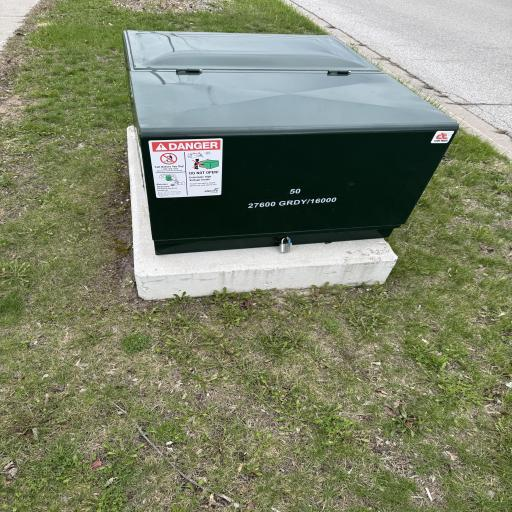Electrical Box: (120, 27, 461, 255)
